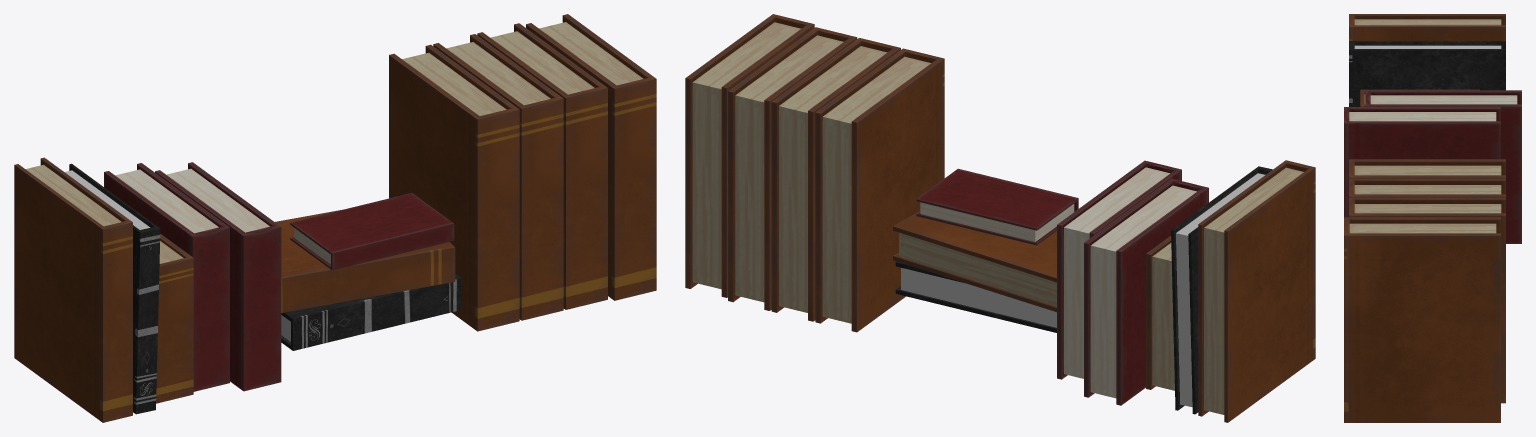
The model's file is BookShelf_ShelfRow_06.fbx.
3 views of the same model, side by side, from view 1: azimuth 30°, elevation 25°; view 2: azimuth 150°, elevation 25°; view 3: azimuth 270°, elevation 25° (orthographic). The views are drawn at different scales.
Visible parts, largest first — view 1: polySurface261; view 2: polySurface261; view 3: polySurface261.
Part boxes in pixels (box(x1,y1,x2,y2)): polySurface261: box(14, 14, 656, 422); polySurface261: box(685, 14, 1315, 422); polySurface261: box(1344, 14, 1521, 422).
Bounding box in the file's own units: 3.08 × 1.13 × 0.9731.
